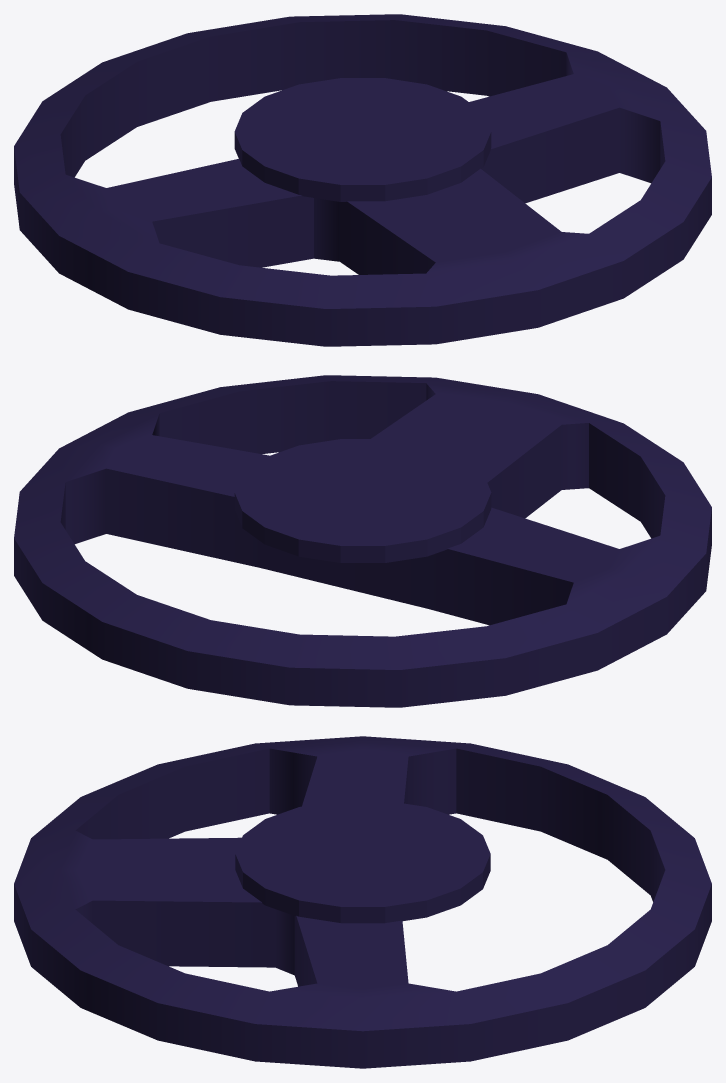
Rendered from Steering_Wheel.fbx.
The picture shows the model from 3 angles, top to bottom: view 1: azimuth 30°, elevation 25°; view 2: azimuth 150°, elevation 25°; view 3: azimuth 270°, elevation 25°; orthographic projection.
Visible parts, largest first — view 1: pPipe1, pCylinder1; view 2: pPipe1, pCylinder1; view 3: pPipe1, pCylinder1.
Part boxes in pixels (<box>): pPipe1: <box>14,14,711,346</box>; pCylinder1: <box>234,78,491,201</box>; pPipe1: <box>14,375,711,707</box>; pCylinder1: <box>234,439,491,562</box>; pPipe1: <box>14,736,711,1068</box>; pCylinder1: <box>235,800,490,923</box>.
Size of the model in its own units: 4.16 by 0.5335 by 4.16.
